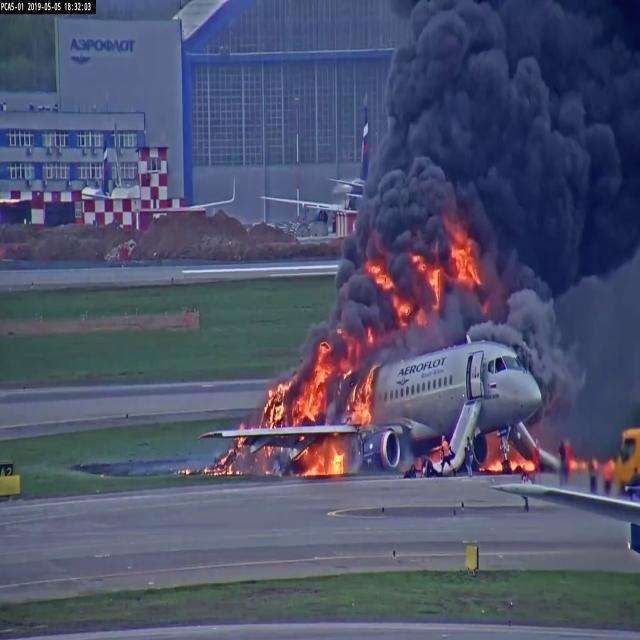Fire: (301, 342, 371, 425), (449, 230, 482, 284), (301, 446, 349, 478)
Smoke: (412, 8, 640, 226)
